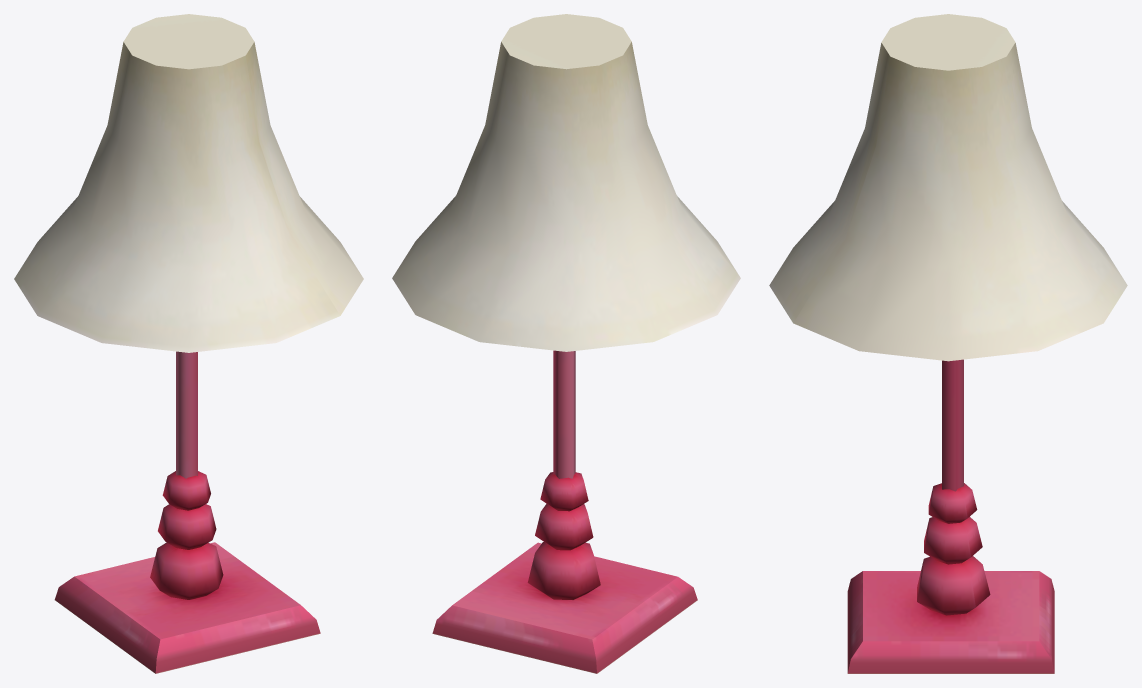
The model's file is furni_0200137.FBX.
The picture shows the model from 3 angles, left to right: view 1: azimuth 30°, elevation 25°; view 2: azimuth 150°, elevation 25°; view 3: azimuth 270°, elevation 25°; orthographic projection. The views are drawn at different scales.
Visible parts, largest first — view 1: furni_0200137; view 2: furni_0200137; view 3: furni_0200137.
Boxes of the visible parts, bbox=[...] form: furni_0200137: bbox=[14, 14, 363, 673]; furni_0200137: bbox=[392, 14, 740, 673]; furni_0200137: bbox=[769, 14, 1127, 673].
Size of the model in its own units: 34.11 by 61.96 by 34.11.
Materials: 1 (1 with a texture image).
